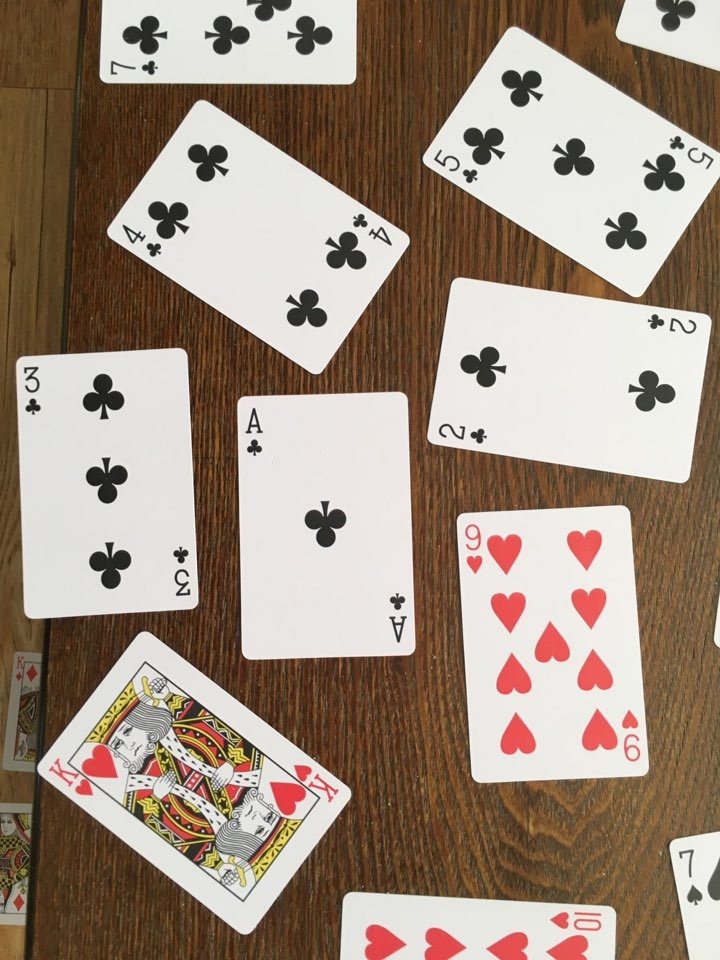ace: (226, 383, 429, 670)
king: (27, 616, 356, 939)
nine: (449, 500, 665, 788)
ten: (324, 879, 642, 960)
